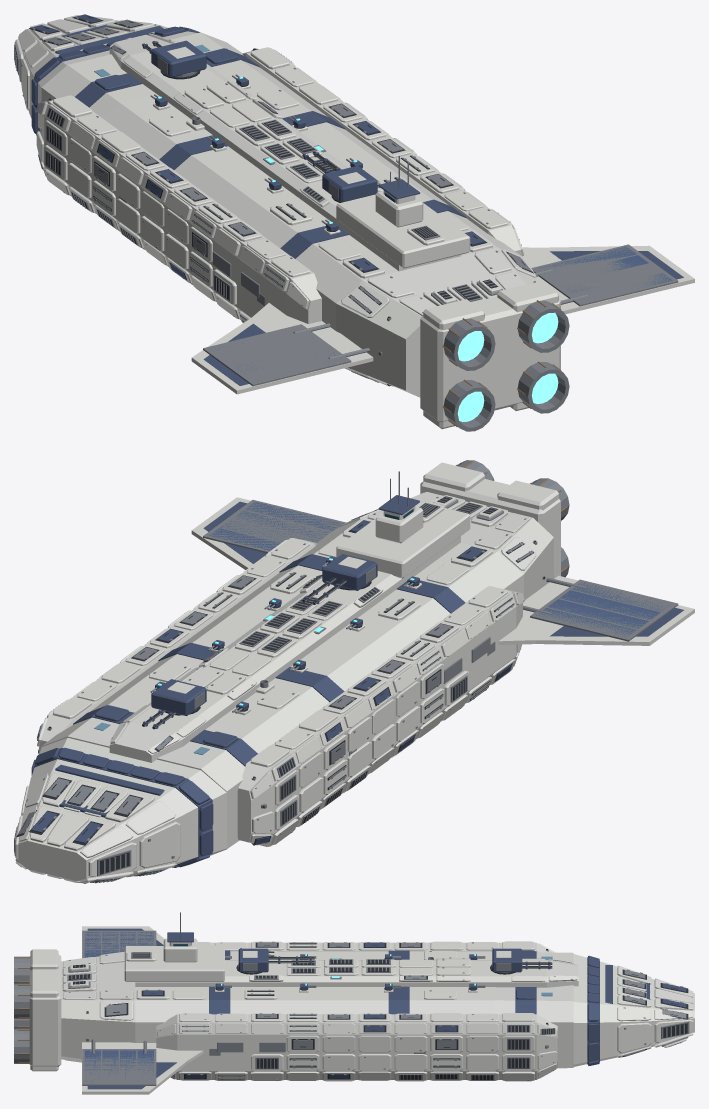
The model's file is battleship_t5.glb.
3 renders of one model, top to bottom at view 1: azimuth 30°, elevation 25°; view 2: azimuth 150°, elevation 25°; view 3: azimuth 270°, elevation 25°, orthographic. The views are drawn at different scales.
Parts seen in each view (by area): view 1: FleetHull, mesh_turret_gun_1, mesh_turret_gun_2; view 2: FleetHull, mesh_turret_gun_1, mesh_turret_gun_2; view 3: FleetHull, mesh_turret_gun_1, mesh_turret_gun_2.
Part boxes in pixels (left/top/right/bottom): FleetHull: left=14, top=14, right=694, bottom=431; mesh_turret_gun_1: left=151, top=40, right=206, bottom=77; mesh_turret_gun_2: left=322, top=166, right=377, bottom=202; FleetHull: left=14, top=460, right=694, bottom=883; mesh_turret_gun_1: left=151, top=679, right=206, bottom=715; mesh_turret_gun_2: left=322, top=554, right=377, bottom=590; FleetHull: left=14, top=912, right=694, bottom=1094; mesh_turret_gun_1: left=491, top=948, right=522, bottom=972; mesh_turret_gun_2: left=238, top=948, right=268, bottom=972.
Bounding box in the file's own units: 742 × 322 × 1289.
